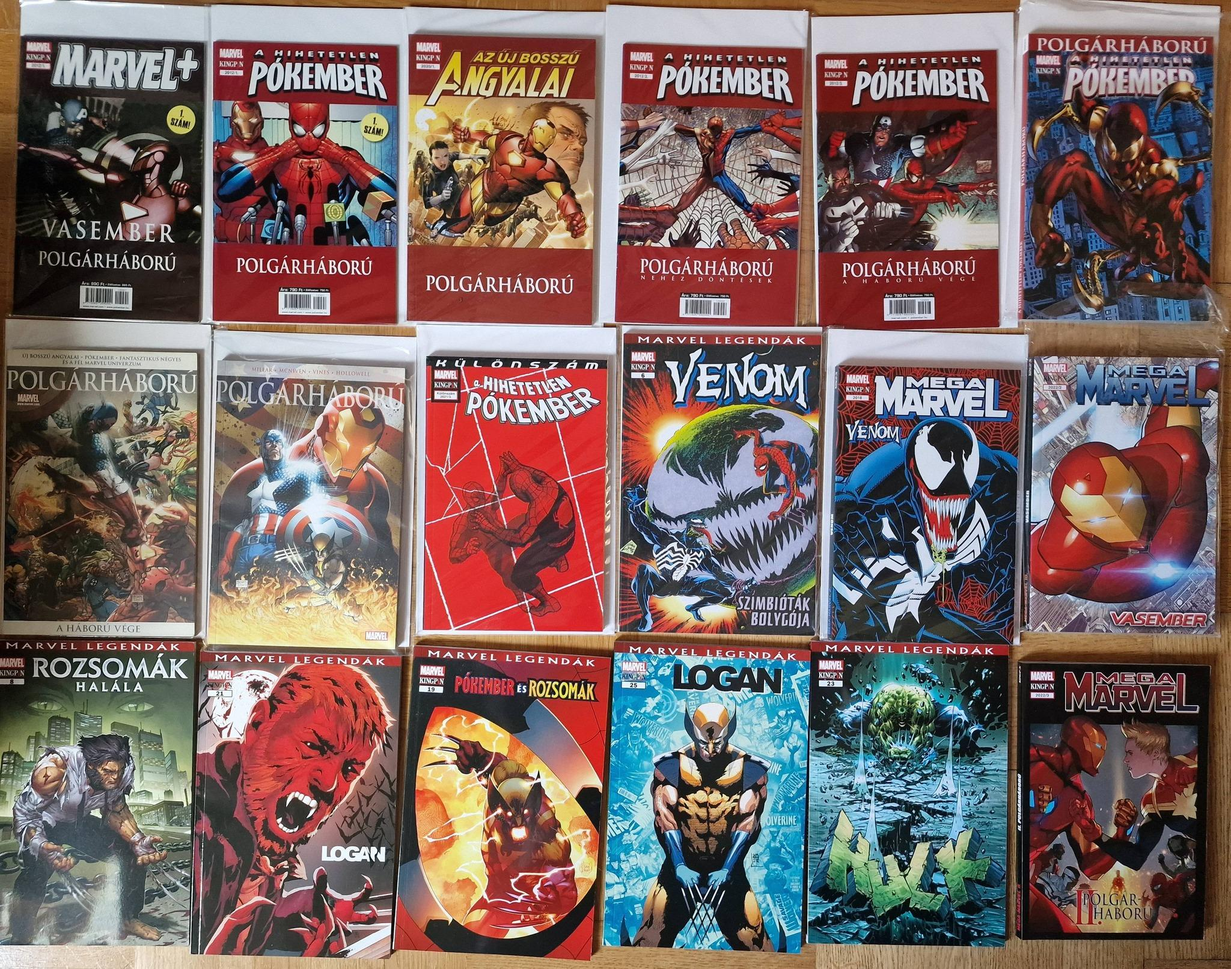comic: (393, 642, 615, 962), (190, 648, 402, 958), (602, 642, 812, 952), (806, 640, 1012, 947), (599, 30, 808, 327), (618, 328, 820, 635), (14, 3, 207, 321), (0, 638, 195, 945), (206, 359, 408, 651), (209, 24, 403, 323), (416, 336, 609, 634), (2, 347, 200, 637), (1020, 28, 1215, 321), (824, 360, 1021, 645), (405, 33, 598, 323), (815, 36, 1003, 329), (1016, 662, 1209, 941), (1025, 356, 1218, 632)
